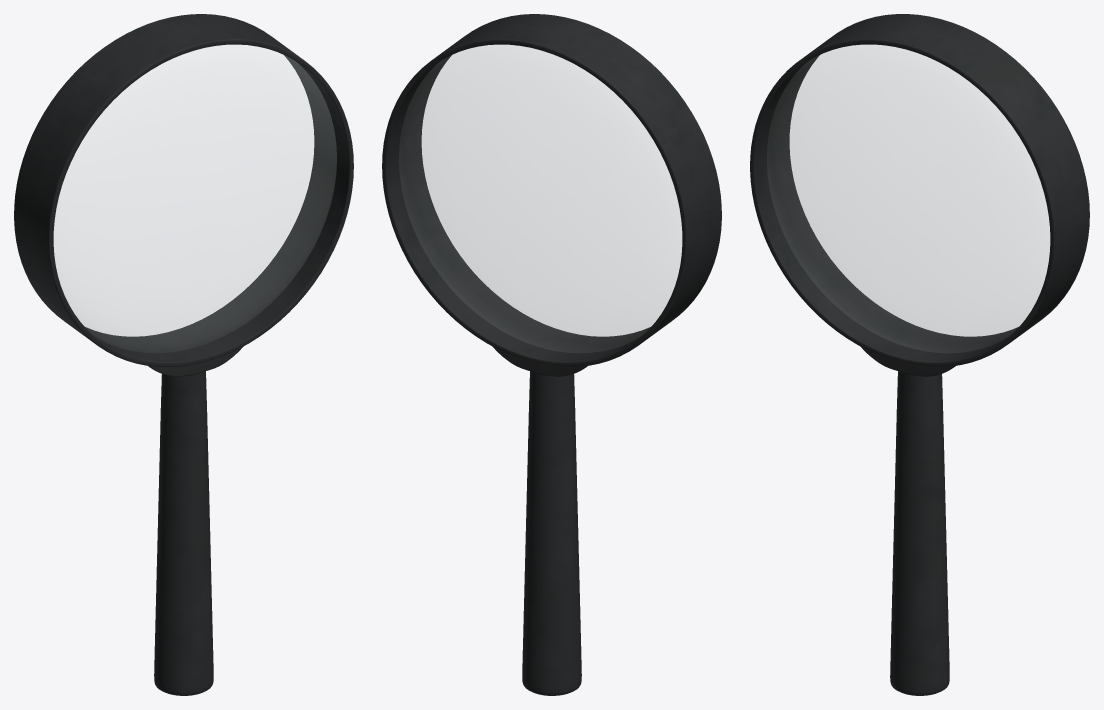
File: magnifying_glass_01.glb
The picture shows the model from 3 angles, left to right: view 1: azimuth 30°, elevation 25°; view 2: azimuth 150°, elevation 25°; view 3: azimuth 330°, elevation 25°; orthographic projection.
Visible parts, largest first — view 1: magnifying_glass_01; view 2: magnifying_glass_01; view 3: magnifying_glass_01.
Part boxes in pixels (left/top/right/bottom): magnifying_glass_01: left=14, top=14, right=353, bottom=695; magnifying_glass_01: left=382, top=14, right=721, bottom=695; magnifying_glass_01: left=750, top=14, right=1089, bottom=695.
Size of the model in its own units: 0.1321 by 0.2716 by 0.0267.
2 materials, 1 textured.
